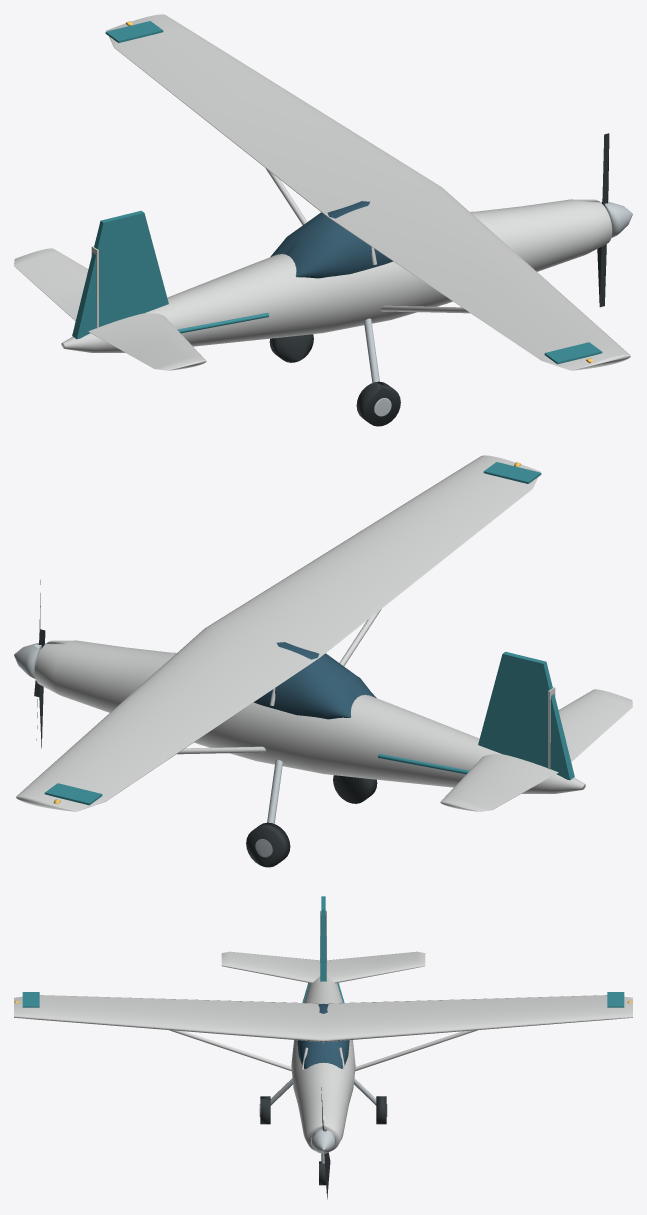
Rendered from skylark.glb.
3 renders of one model, top to bottom at view 1: azimuth 30°, elevation 25°; view 2: azimuth 150°, elevation 25°; view 3: azimuth 270°, elevation 25°, orthographic. The views are drawn at different scales.
Visible parts, largest first — view 1: skylark.glb, Propeller; view 2: skylark.glb; view 3: skylark.glb.
Part boxes in pixels (bbox=[...]): skylark.glb: bbox=[14, 14, 632, 426]; Propeller: bbox=[597, 133, 609, 307]; skylark.glb: bbox=[14, 455, 632, 867]; skylark.glb: bbox=[14, 896, 632, 1185].
Bounding box in the file's own units: 7.64 × 2.9 × 10.8.
